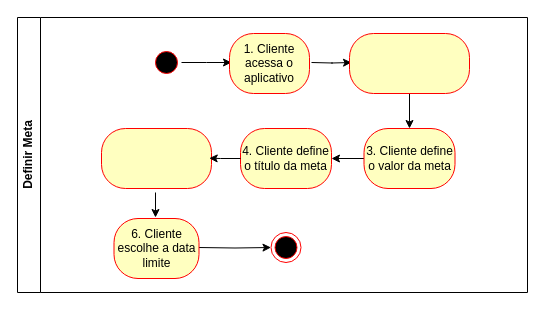
Some shapes in this 545 by 310 pixel diagram are drawn without their labels. Here are the shapes that lost their labels. From the top down, the centre of each, then its label:
At point 409,63: "2. Cliente acessa a página de definir meta".
At point 156,158: "5. Cliente define descrição da meta".
